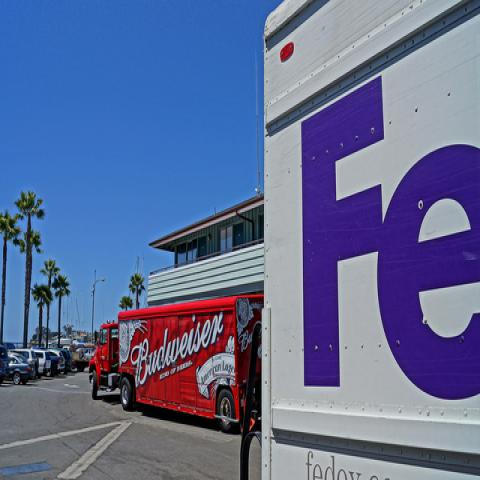car: (8, 349, 38, 379), (69, 340, 95, 373), (8, 353, 31, 385), (30, 348, 52, 377), (48, 350, 66, 374), (46, 349, 58, 377), (60, 349, 70, 376), (0, 346, 9, 373)
truck: (260, 2, 479, 445), (89, 294, 263, 429)
